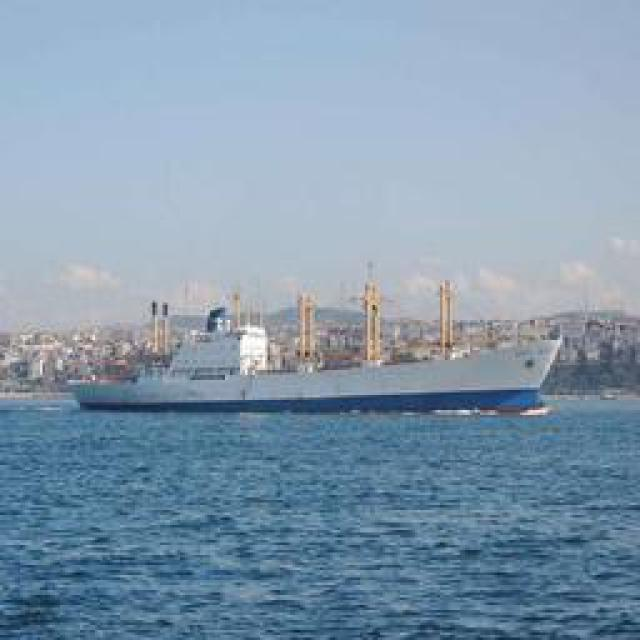Ship: (89, 306, 552, 419)
